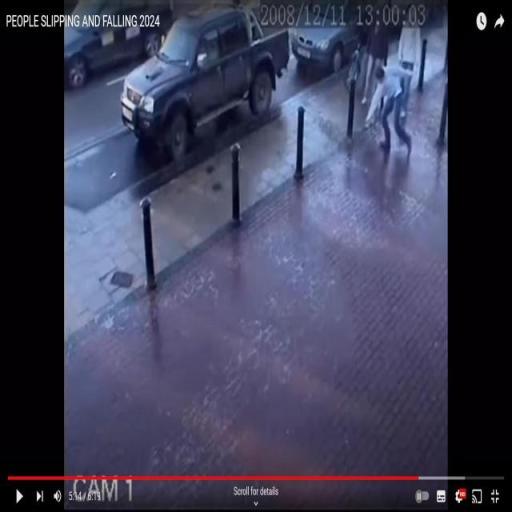Fall: (362, 60, 417, 159)
